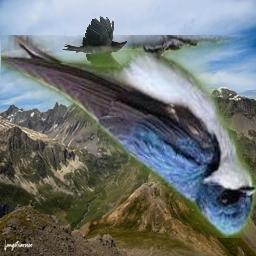Crow: (62, 16, 127, 79)
Swallow: (1, 35, 256, 238)
